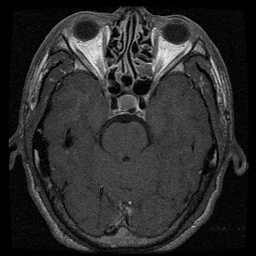pituitary: (117, 94, 138, 111)
